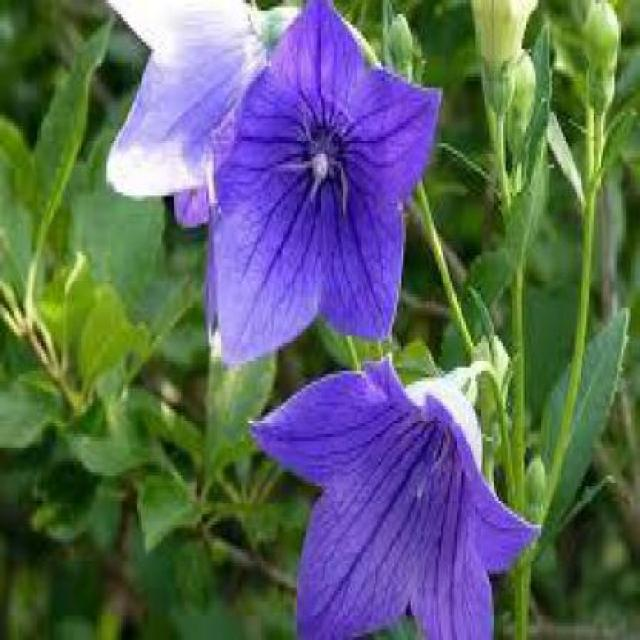flower: (202, 9, 436, 352), (241, 363, 528, 637)
